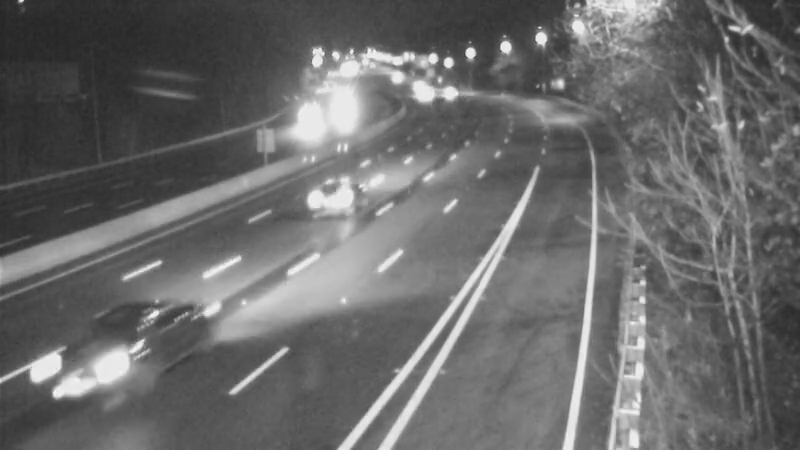vehicle: (25, 321, 135, 431), (293, 159, 373, 239), (369, 50, 419, 100), (390, 62, 440, 112), (425, 68, 475, 118), (393, 67, 443, 117), (280, 99, 330, 149), (315, 84, 365, 134)
